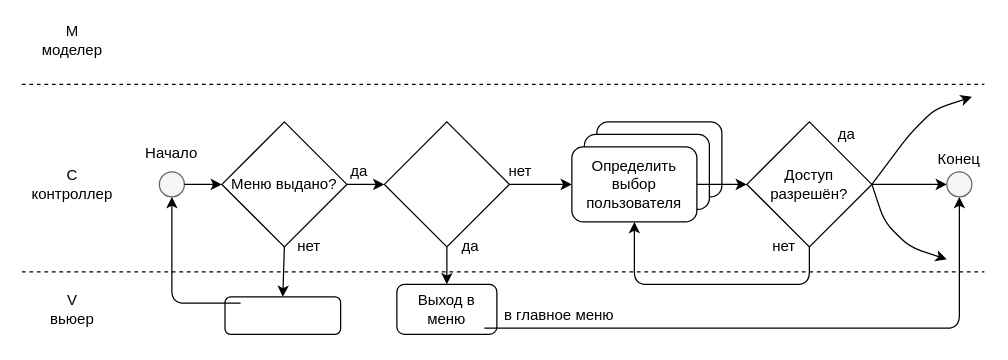
This 1008x360 diagram has some shape labels left out. The shapes that lost their labels are listed below. From the top down, each one's box as (x1, y1, x2, y2) in pixels, then its label:
(383, 121, 509, 247): Нажат выход
(224, 296, 341, 334): Выдать меню
